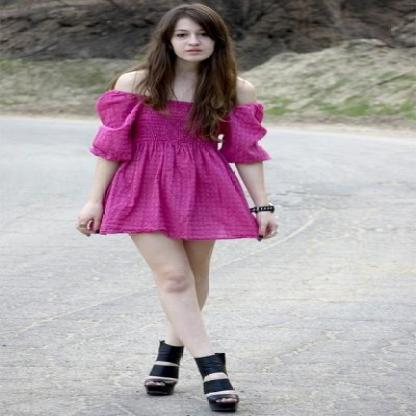dress: (91, 89, 268, 240)
shoe: (145, 340, 236, 412)
